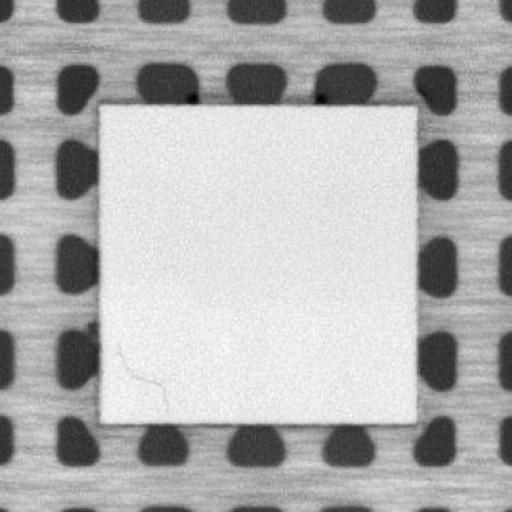DIE_CRACK: (108, 338, 172, 409)
